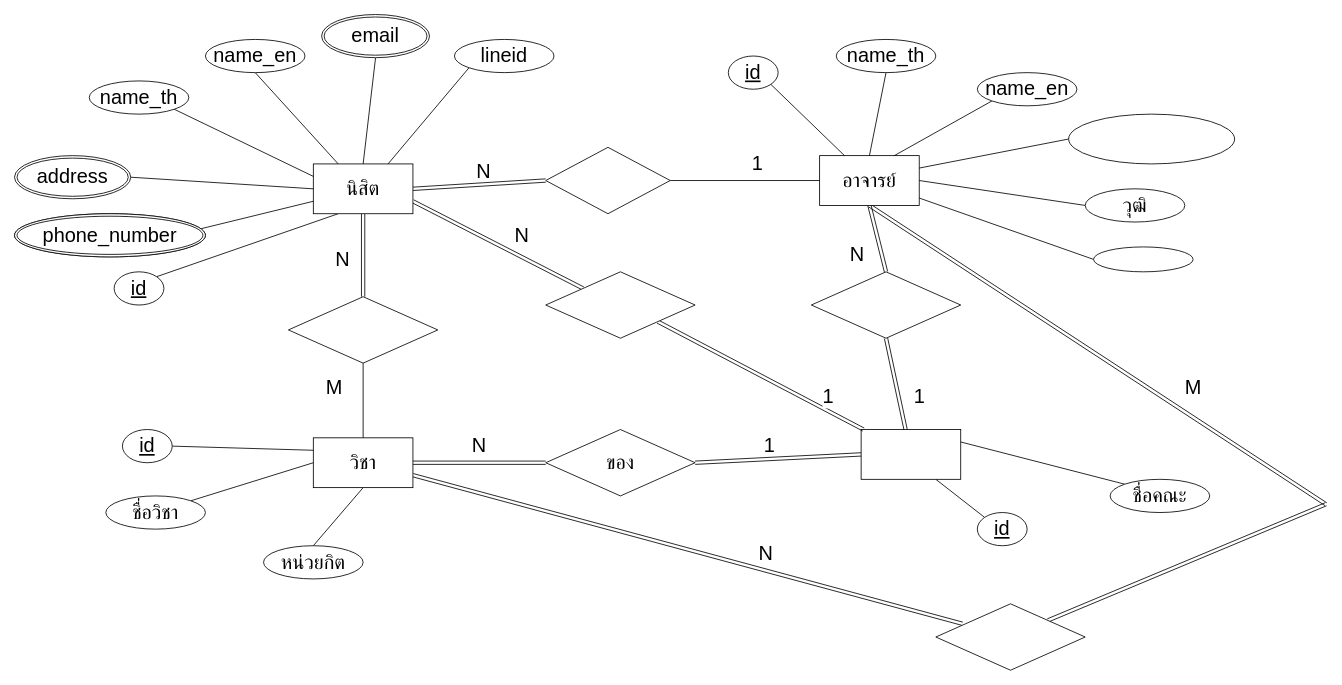
This 1342x685 diagram has some shape labels left out. Here are the shapes that lost their labels. From the top down, the box of each, then its label:
(1068, 113, 1235, 164): Academic Vichakarn
(545, 146, 670, 214): ปรึกษา
(1093, 246, 1193, 272): skill
(545, 271, 695, 338): อยู่
(810, 271, 961, 338): อยู่2
(288, 296, 438, 363): ลงทะเบียน
(860, 429, 961, 479): คณะ
(935, 603, 1085, 670): สอน
